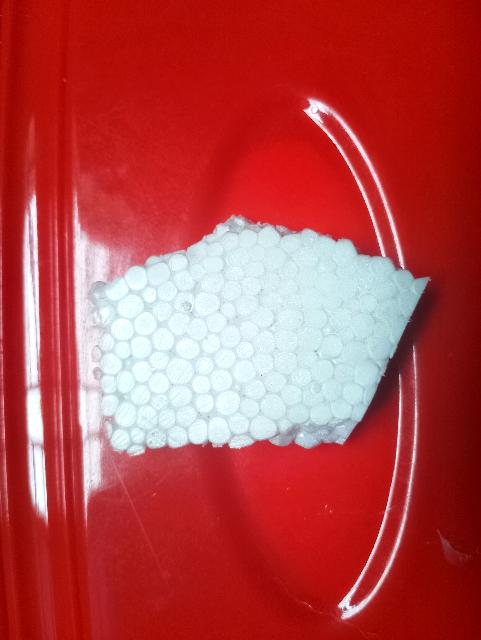cocksheet: (89, 218, 451, 443)
